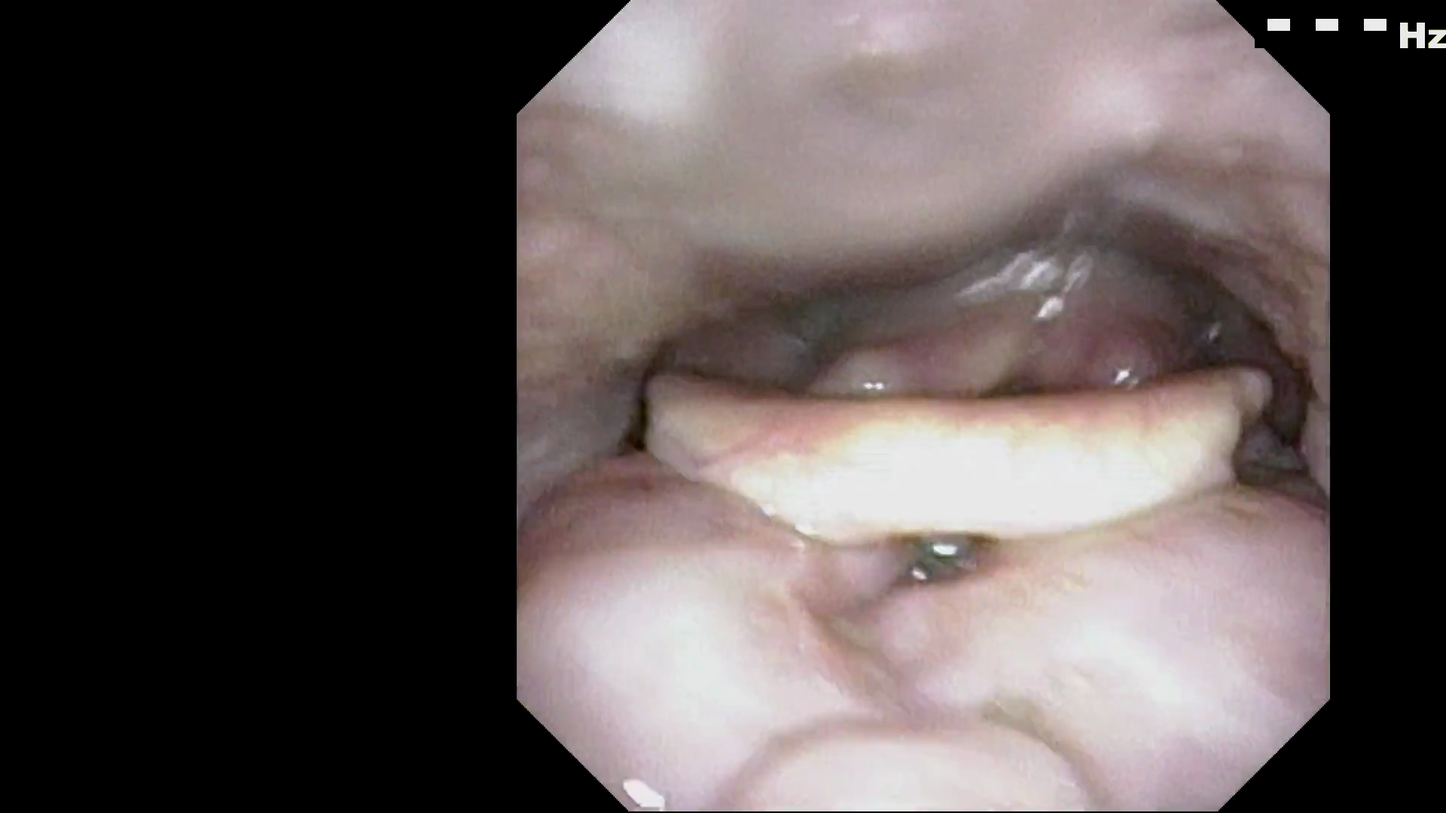epiglottis: (664, 401, 1292, 567)
trachea: (935, 386, 1089, 467)
